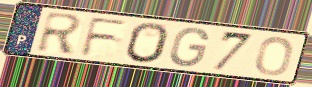7: (211, 29, 256, 72)
F: (78, 16, 131, 58)
G: (167, 26, 211, 69)
O: (124, 21, 171, 65), (253, 35, 296, 78)
R: (34, 10, 85, 56)
